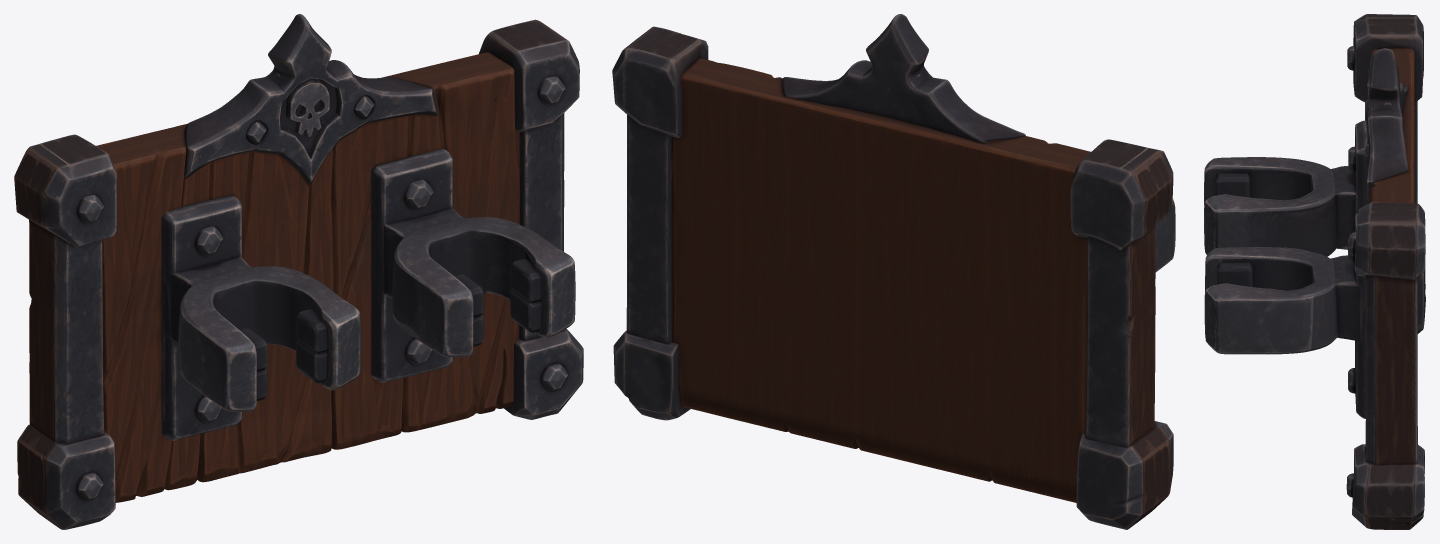
File: PR_MopRack_Up.fbx
The picture shows the model from 3 angles, left to right: view 1: azimuth 30°, elevation 25°; view 2: azimuth 150°, elevation 25°; view 3: azimuth 270°, elevation 25°; orthographic projection. The views are drawn at different scales.
Parts seen in each view (by area): view 1: Mesh_0; view 2: Mesh_0; view 3: Mesh_0.
Boxes of the visible parts, <box> form: Mesh_0: <box>14,14,583,529</box>; Mesh_0: <box>612,14,1175,529</box>; Mesh_0: <box>1204,14,1425,529</box>.
Bounding box in the file's own units: 190 × 153 × 80.52.
1 material, 1 textured.
